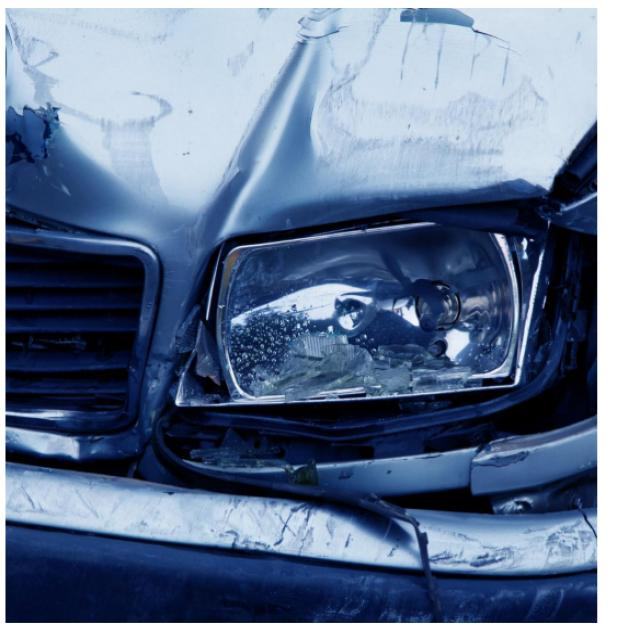Accident: (0, 0, 592, 624)
